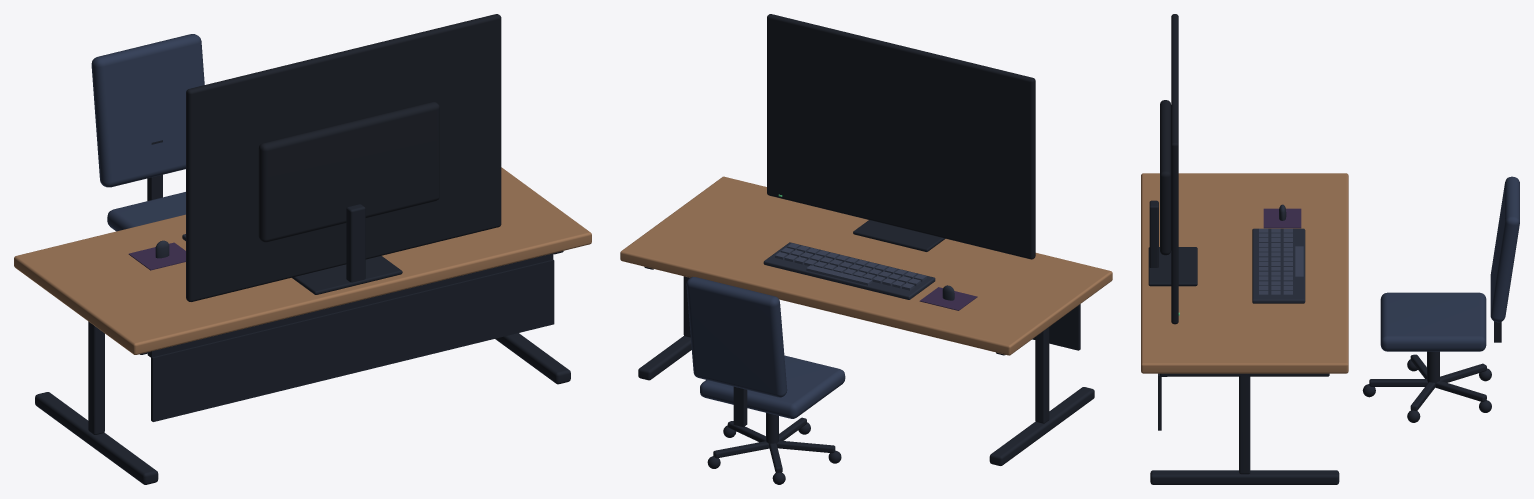
The model's file is desk.glb.
3 views of the same model, side by side, from view 1: azimuth 30°, elevation 25°; view 2: azimuth 150°, elevation 25°; view 3: azimuth 270°, elevation 25° (orthographic). The views are drawn at different scales.
Visible parts, largest first — view 1: bezel, brace_-1, top, backrest, mousepad; view 2: bezel, top, backrest, brace_-1, key_0_0, caster_0, keyboard, mousepad, spine; view 3: top, backrest, brace_-1, bezel, caster_0, key_0_0, keyboard, mousepad.
Boxes of the visible parts, box(x1,y1,x2,y2) form: bezel: box(186, 14, 501, 301); brace_-1: box(35, 204, 570, 484); top: box(14, 167, 591, 354); backrest: box(91, 34, 204, 231); mousepad: box(128, 242, 185, 270); bezel: box(767, 14, 1035, 259); top: box(620, 176, 1112, 355); backrest: box(686, 276, 845, 418); brace_-1: box(638, 220, 1094, 465); key_0_0: box(775, 243, 926, 290); caster_0: box(707, 413, 841, 484); keyboard: box(763, 242, 954, 300); mousepad: box(919, 287, 977, 310); spine: box(733, 386, 747, 427); top: box(1141, 173, 1348, 373); backrest: box(1380, 176, 1519, 351); brace_-1: box(1148, 200, 1339, 484); bezel: box(1160, 14, 1178, 324); caster_0: box(1362, 351, 1491, 422); key_0_0: box(1259, 228, 1303, 296); keyboard: box(1252, 204, 1305, 303); mousepad: box(1263, 208, 1301, 228).
Size of the model in its own units: 2.4 by 1.86 by 2.01.
